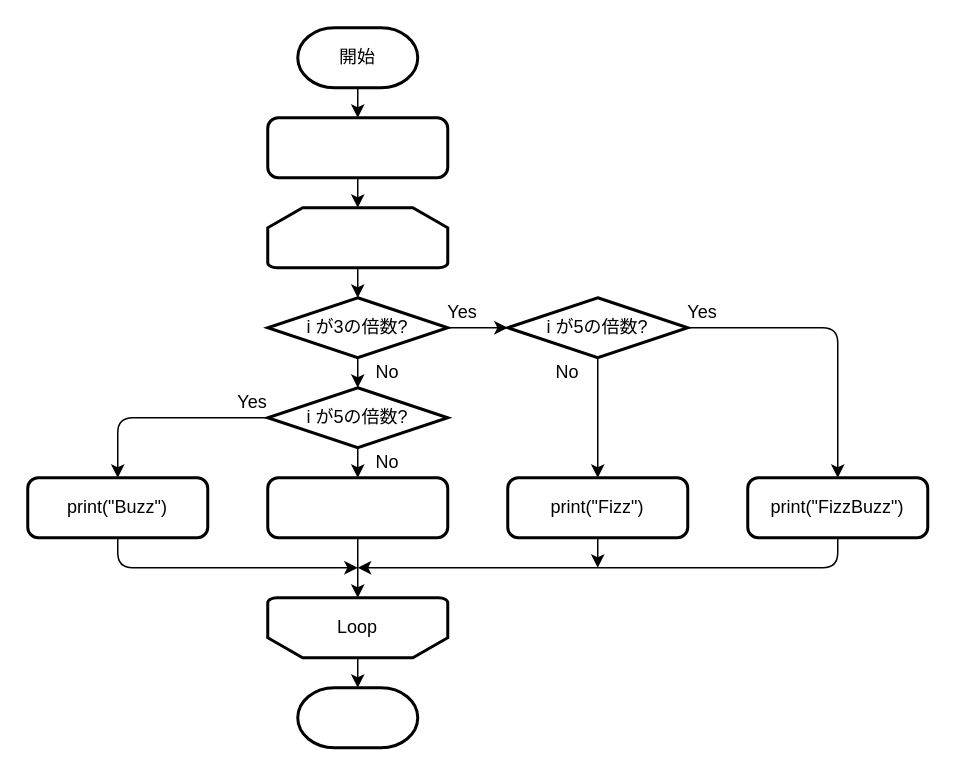
Image size: 954x774. Some labels were removed from this diagram. Each missing label, with the centre of its shape:
i = 1: the point at 357,147
Loop i ≦ 30: the point at 357,237
print(i): the point at 357,507
終了: the point at 357,717
